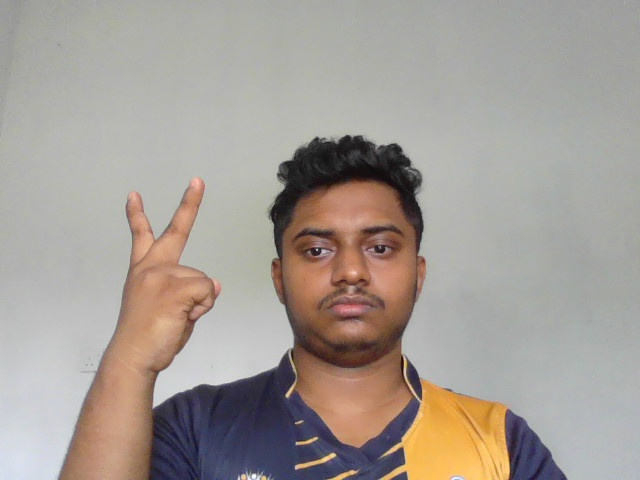See You: (104, 177, 225, 380)
